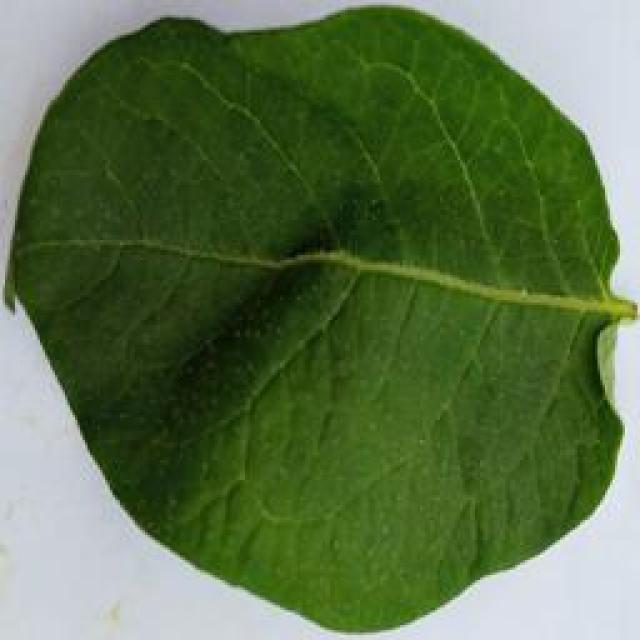Potato_Healthy: (3, 9, 631, 635)
